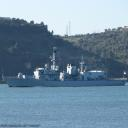Fragata: (3, 46, 128, 90)
